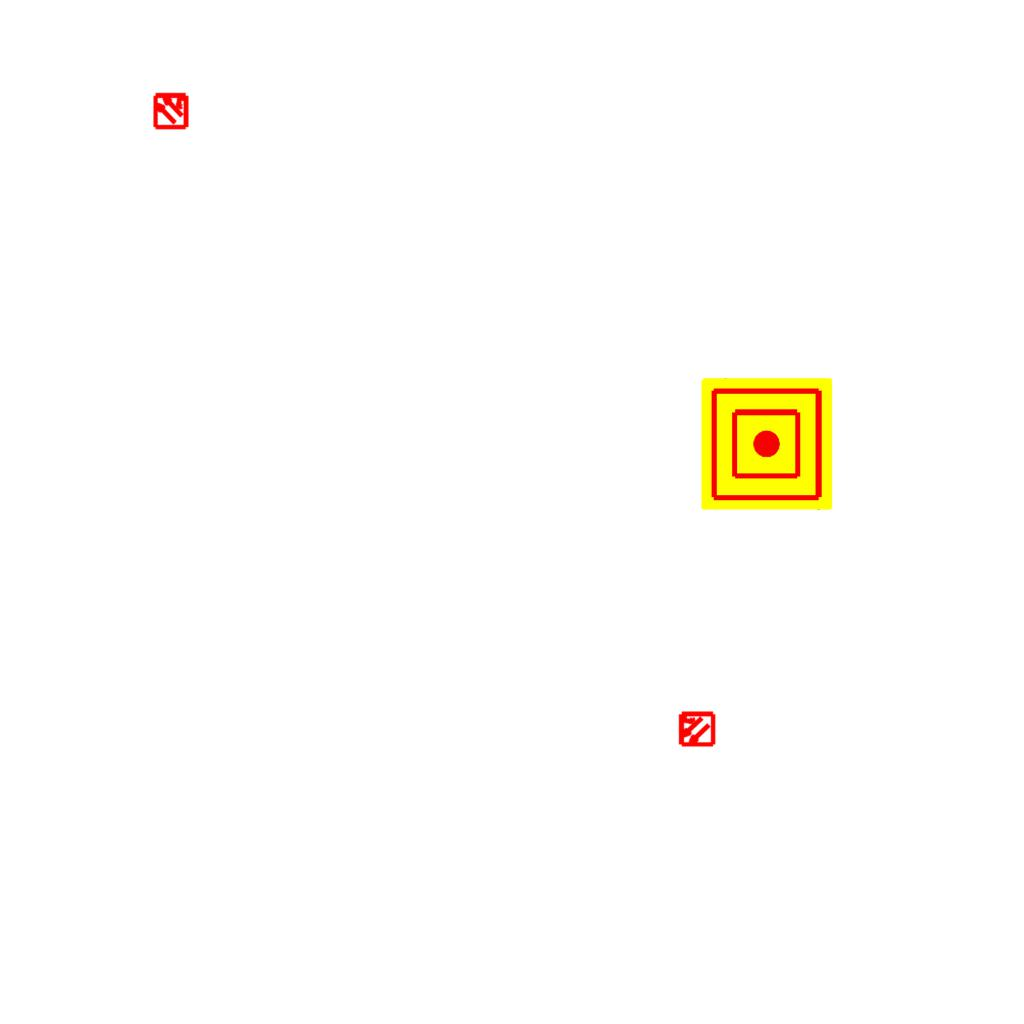NAM-Nichtautomatischer_Melder: (701, 378, 833, 510)
OT_Multisensormelder_(Kombination_RMO_WMD): (668, 701, 724, 757), (143, 82, 199, 138)
